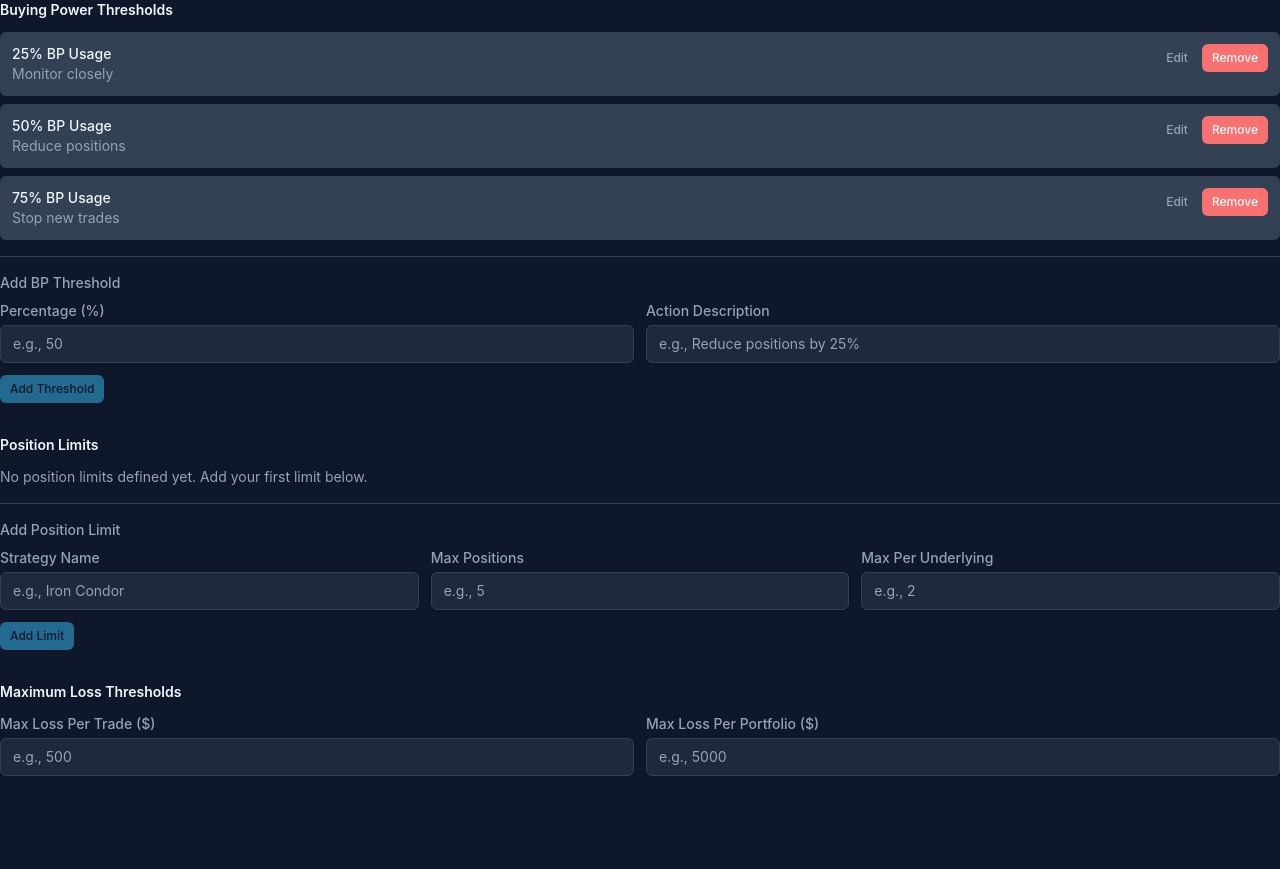
Test case: RiskManagementSection › BP Thresholds › cancels edit without saving
Click the button with aria-label "edit threshold: 25%".
click(1177, 58)  # box [1156,44,1198,72]
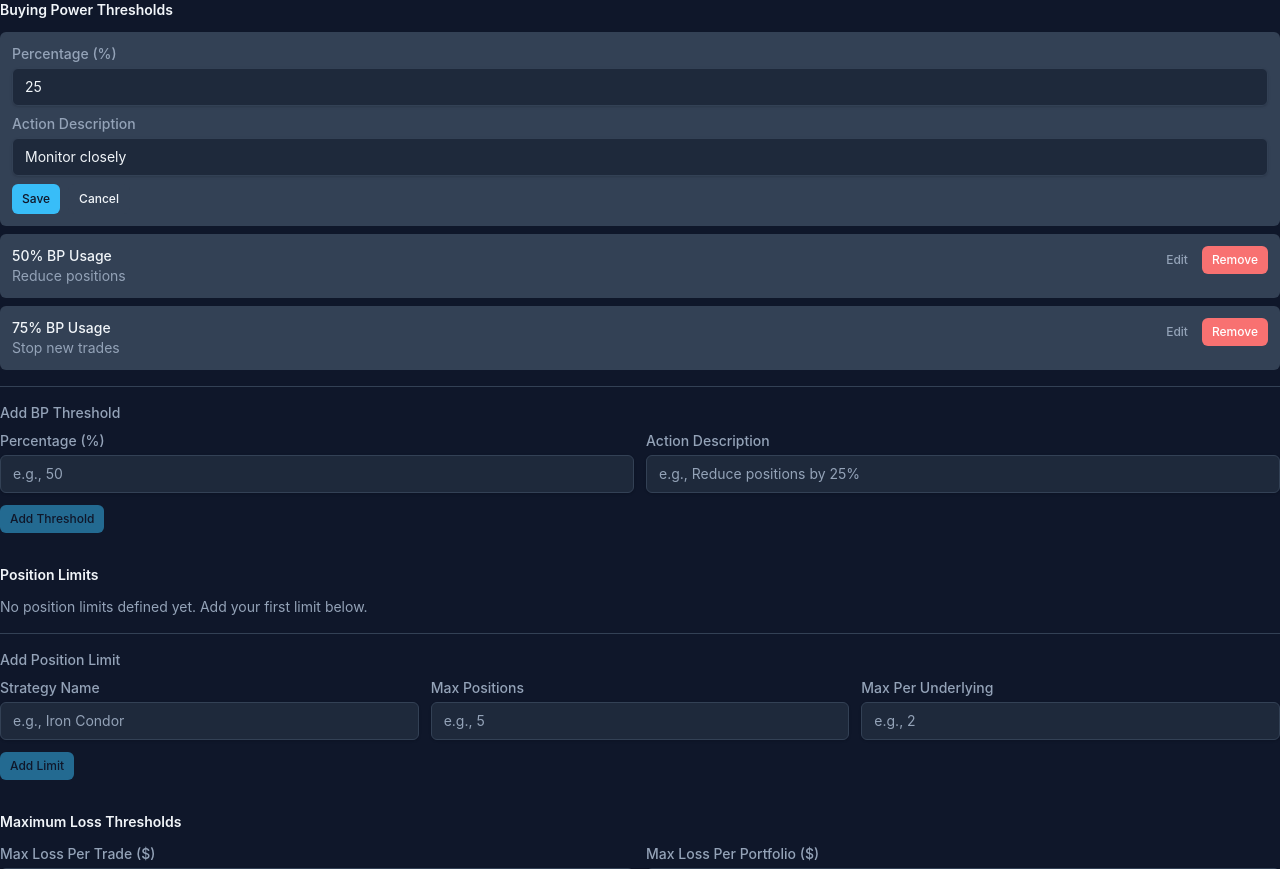
Click the button "Cancel".
click(99, 199)  # box [68,184,130,214]
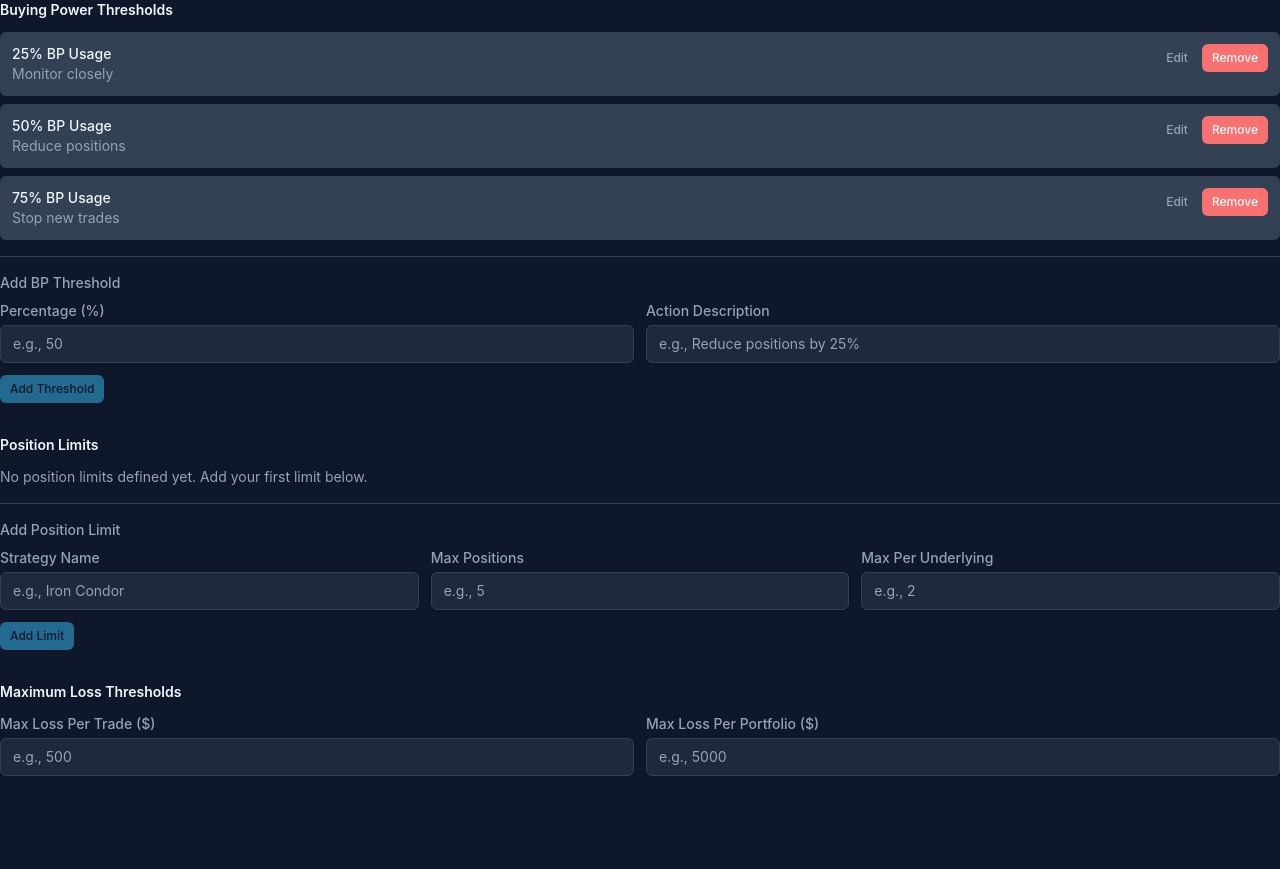
Now the text "25% BP Usage" is shown, box [12,45,111,62]
